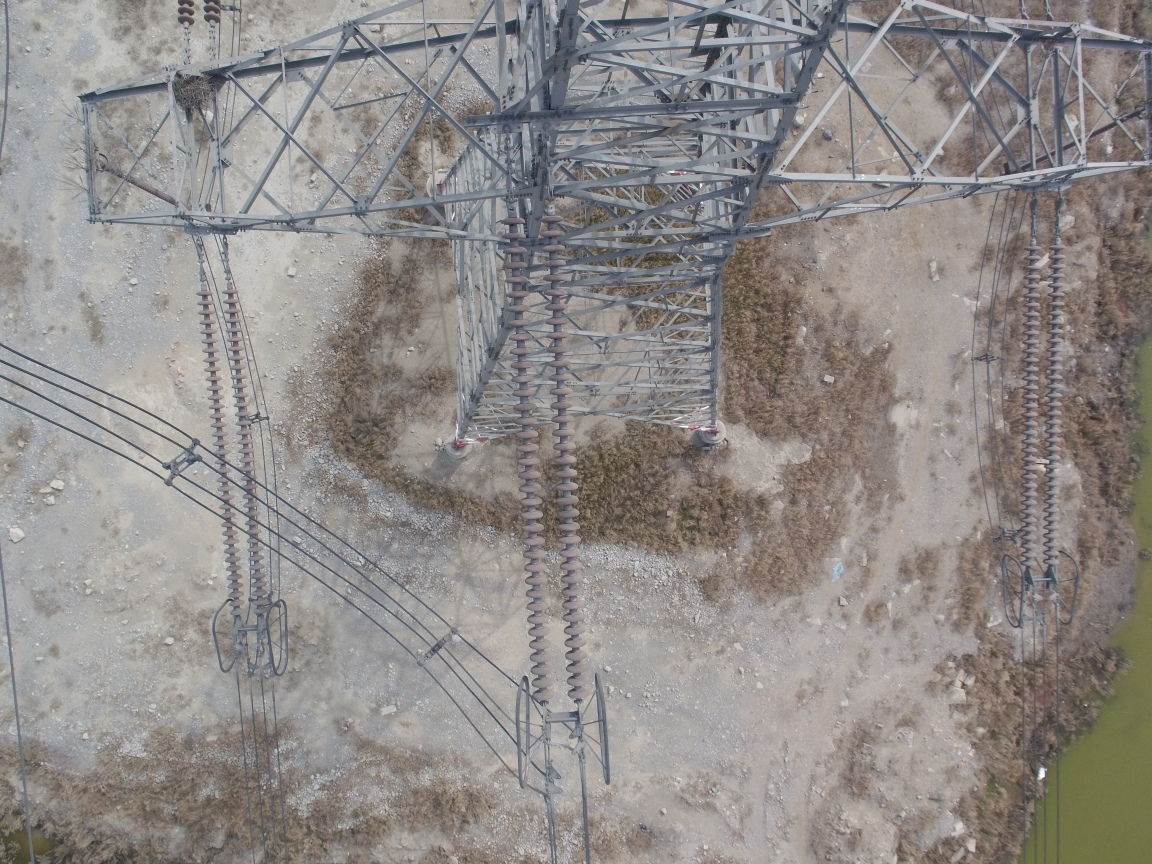insulator: (496, 176, 594, 721), (193, 266, 275, 631), (1011, 228, 1066, 574)
